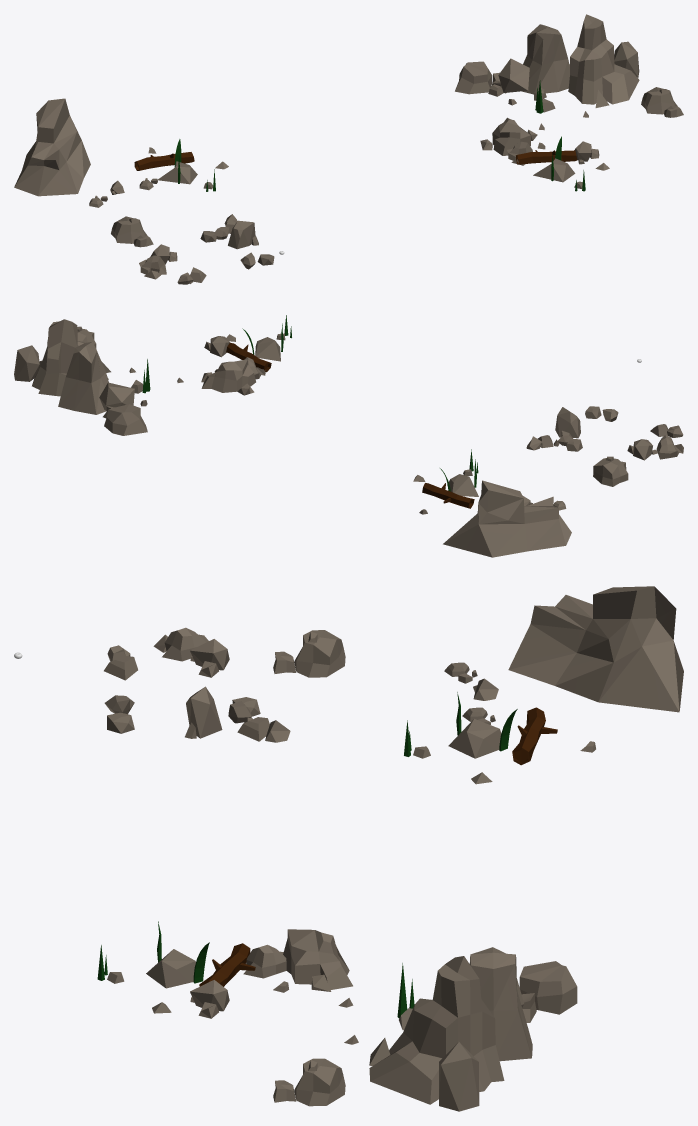
Rendered from stones.FBX.
3 renders of one model, top to bottom at view 1: azimuth 30°, elevation 25°; view 2: azimuth 150°, elevation 25°; view 3: azimuth 270°, elevation 25°, orthographic. The views are drawn at different scales.
Parts seen in each view (by area): view 1: Stone_1, Stone_032, Stone_3, Rocks_and_grass_004, Rocks_and_grass_003, Stone_7, Stone_033, Stone_034, Stone_043, Stone_037, Stone_044; view 2: Stone_1, Stone_3, Stone_032, Rocks_and_grass_003, Stone_033, Rocks_and_grass_004, Stone_7, Stone_043, Stone_037, Stone_044, Stone_036, Rocks_and_grass_1; view 3: Stone_1, Stone_032, Stone_3, Rocks_and_grass_003, Rocks_and_grass_004, Stone_033, Stone_7, Stone_034, Stone_043, Stone_037, Stone_044, Stone_035 (+2 smaller).
Boxes of the visible parts, left/top/right/bottom form: Stone_1: left=14, top=98, right=90, bottom=196; Stone_032: left=568, top=14, right=639, bottom=107; Stone_3: left=498, top=24, right=569, bottom=100; Rocks_and_grass_004: left=516, top=136, right=609, bottom=191; Rocks_and_grass_003: left=134, top=139, right=228, bottom=191; Stone_7: left=455, top=61, right=506, bottom=96; Stone_033: left=480, top=117, right=537, bottom=155; Stone_034: left=641, top=87, right=683, bottom=117; Stone_043: left=111, top=216, right=153, bottom=247; Stone_037: left=228, top=220, right=258, bottom=249; Stone_044: left=139, top=255, right=166, bottom=279; Stone_1: left=443, top=480, right=571, bottom=557; Stone_3: left=58, top=342, right=134, bottom=414; Stone_032: left=14, top=319, right=110, bottom=396; Rocks_and_grass_003: left=413, top=449, right=478, bottom=514; Stone_033: left=201, top=359, right=255, bottom=395; Rocks_and_grass_004: left=214, top=315, right=291, bottom=372; Stone_7: left=103, top=404, right=147, bottom=435; Stone_043: left=593, top=456, right=628, bottom=486; Stone_037: left=555, top=407, right=580, bottom=438; Stone_044: left=656, top=435, right=683, bottom=459; Stone_036: left=627, top=439, right=657, bottom=460; Rocks_and_grass_1: left=129, top=359, right=183, bottom=406; Stone_1: left=508, top=586, right=683, bottom=712; Stone_032: left=369, top=956, right=504, bottom=1111; Stone_3: left=469, top=947, right=532, bottom=1061; Rocks_and_grass_003: left=404, top=692, right=595, bottom=784; Rocks_and_grass_004: left=97, top=921, right=288, bottom=1013; Stone_033: left=283, top=929, right=352, bottom=991; Stone_7: left=519, top=961, right=577, bottom=1022; Stone_034: left=273, top=1058, right=345, bottom=1106; Stone_043: left=273, top=630, right=345, bottom=677; Stone_037: left=185, top=686, right=222, bottom=738; Stone_044: left=153, top=627, right=208, bottom=661; Stone_035: left=243, top=944, right=286, bottom=978.
Bounding box in the file's own units: 30.28 × 3.39 × 18.04.
